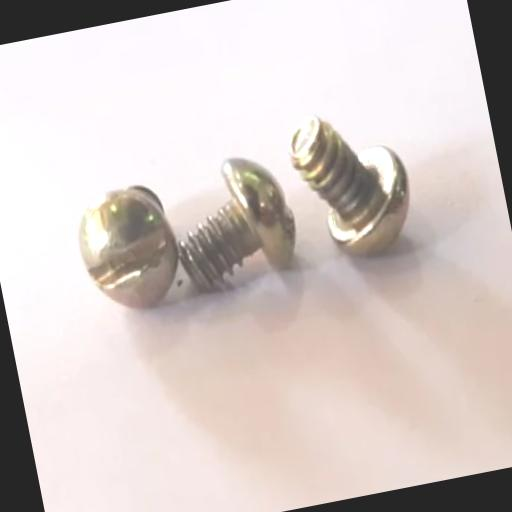Slotted: (71, 180, 186, 319)
